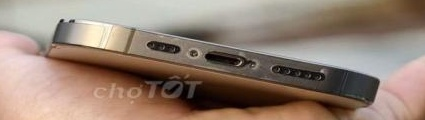physical_damage: (339, 86, 380, 113), (45, 38, 91, 53)
scratch: (233, 48, 270, 82), (135, 27, 194, 46), (180, 42, 201, 60), (313, 67, 330, 79)
